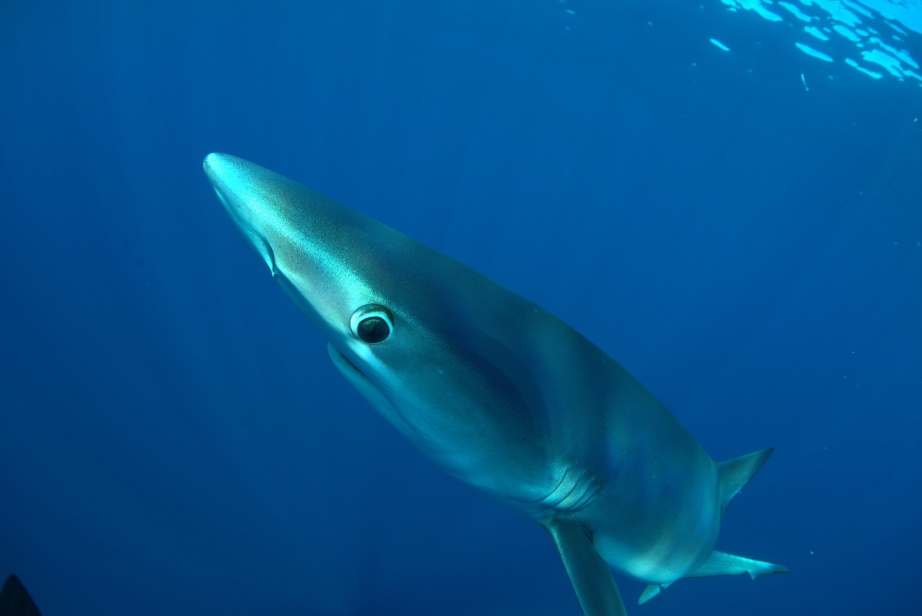Azul: (173, 125, 862, 616)
